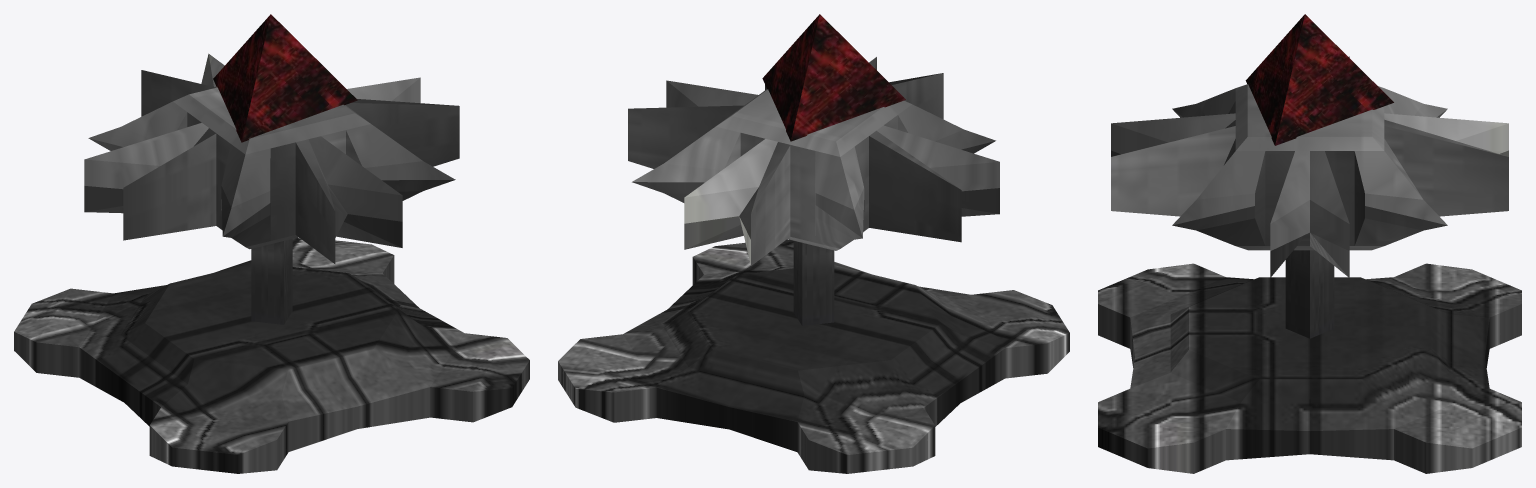
File: SM_turretAOE_concept.fbx
3 views of the same model, side by side, from view 1: azimuth 30°, elevation 25°; view 2: azimuth 150°, elevation 25°; view 3: azimuth 270°, elevation 25° (orthographic). The views are drawn at different scales.
Parts seen in each view (by area): view 1: base, Cube, Cone, pole; view 2: base, Cube, Cone, pole; view 3: base, Cube, Cone, pole.
Part boxes in pixels (x1,y1,x2,y2): base: (14, 237, 529, 473); Cube: (84, 53, 459, 263); Cone: (213, 14, 357, 142); pole: (251, 239, 292, 324); base: (558, 239, 1069, 473); Cube: (628, 57, 999, 265); Cone: (762, 14, 905, 141); pole: (793, 241, 834, 325); base: (1098, 263, 1521, 473); Cube: (1111, 56, 1508, 277); Cone: (1245, 14, 1393, 145); pole: (1285, 250, 1334, 338).
Size of the model in its own units: 700 by 672 by 700.
